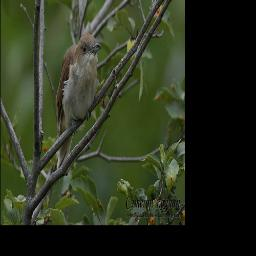Cuckoo: (55, 32, 101, 170)
